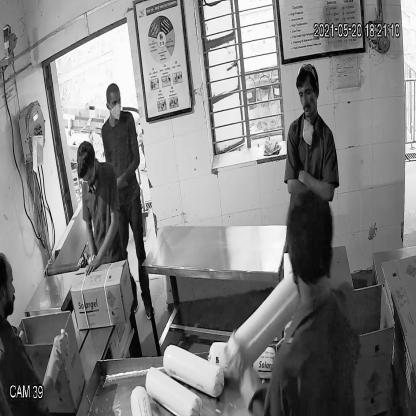no_goggles: (296, 84, 319, 99)
